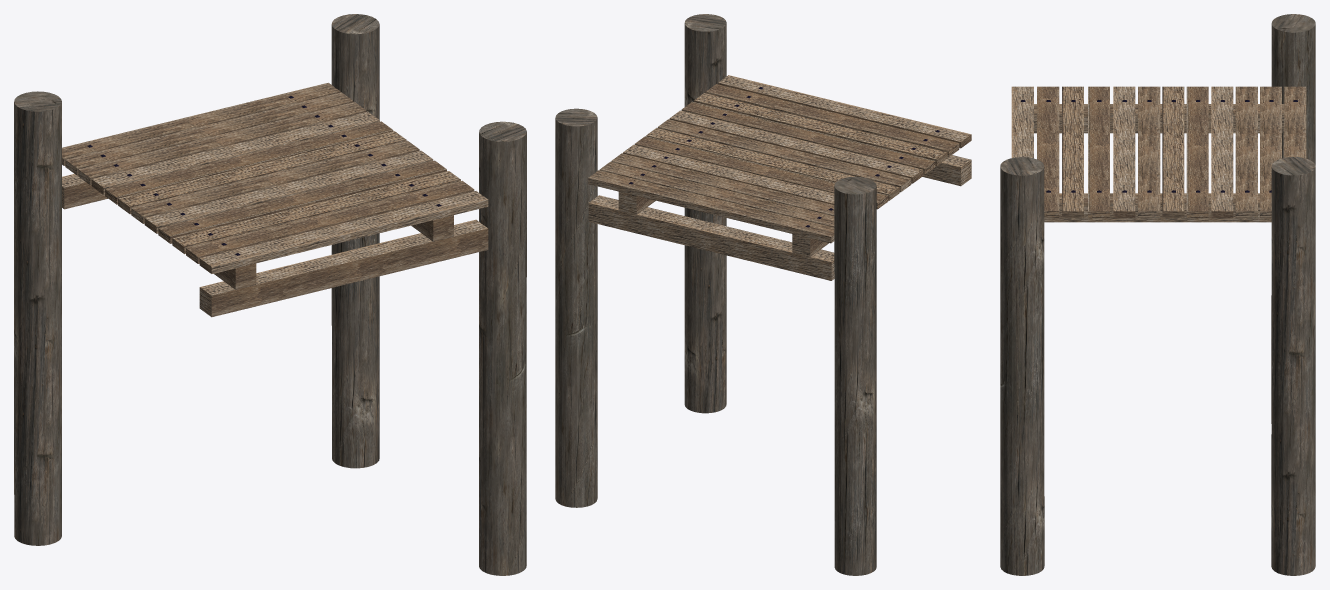
The model's file is Kit Plataforma 4to C.fbx.
3 views of the same model, side by side, from view 1: azimuth 30°, elevation 25°; view 2: azimuth 150°, elevation 25°; view 3: azimuth 270°, elevation 25° (orthographic). The views are drawn at different scales.
Parts seen in each view (by area): view 1: Piso Maderas 4 x 4, Soporte_Piso, Poste_6.002, Viga; view 2: Soporte_Piso, Piso Maderas 4 x 4, Poste_6.002, Viga; view 3: Piso Maderas 4 x 4, Soporte_Piso, Poste_6.002.
Boxes of the visible parts, bbox=[...] form: Piso Maderas 4 x 4: bbox=[62, 82, 488, 289]; Soporte_Piso: bbox=[14, 14, 379, 545]; Poste_6.002: bbox=[479, 121, 526, 575]; Viga: bbox=[199, 219, 488, 317]; Soporte_Piso: bbox=[555, 108, 876, 575]; Piso Maderas 4 x 4: bbox=[588, 75, 971, 256]; Poste_6.002: bbox=[684, 14, 726, 413]; Viga: bbox=[922, 155, 971, 186]; Piso Maderas 4 x 4: bbox=[1011, 86, 1306, 222]; Soporte_Piso: bbox=[1271, 14, 1315, 575]; Poste_6.002: bbox=[1000, 157, 1044, 575].
Bounding box in the file's own units: 520 × 600 × 429.
Materials: 3 (2 with a texture image).
